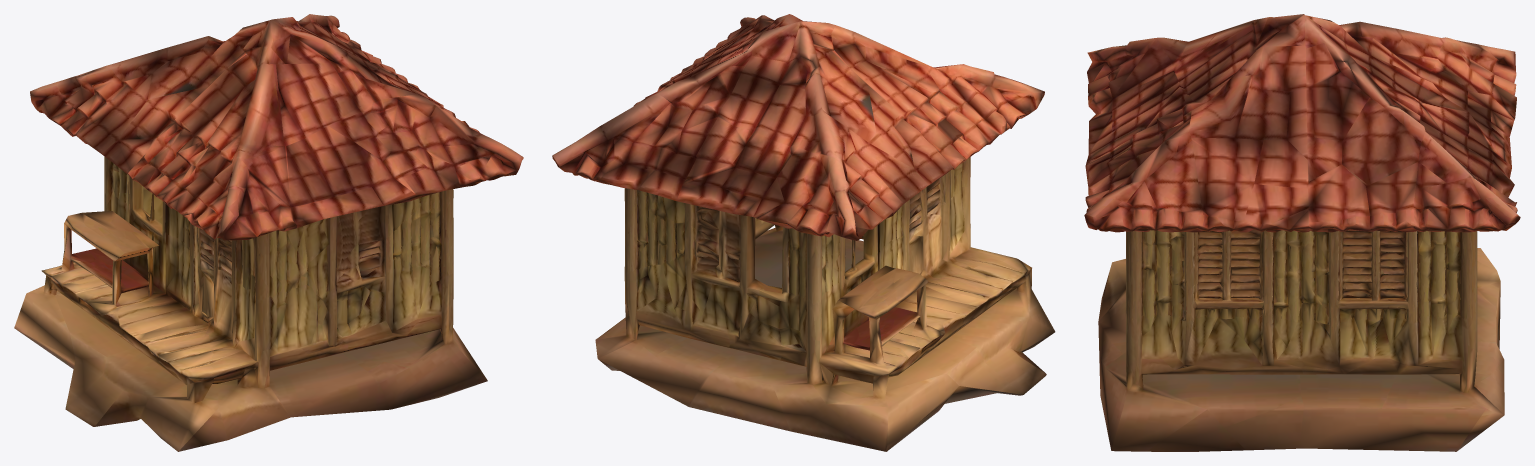
The model's file is nha-mai-ngoi.9c53722a.glb.
3 views of the same model, side by side, from view 1: azimuth 30°, elevation 25°; view 2: azimuth 150°, elevation 25°; view 3: azimuth 270°, elevation 25° (orthographic). The views are drawn at different scales.
Parts seen in each view (by area): view 1: tripo_node_f14fa982-ebdf-46bf-9648-429ff875a777; view 2: tripo_node_f14fa982-ebdf-46bf-9648-429ff875a777; view 3: tripo_node_f14fa982-ebdf-46bf-9648-429ff875a777.
Boxes of the visible parts, x1,y1,x2,y2 form: tripo_node_f14fa982-ebdf-46bf-9648-429ff875a777: (14,14,523,451); tripo_node_f14fa982-ebdf-46bf-9648-429ff875a777: (552,14,1055,451); tripo_node_f14fa982-ebdf-46bf-9648-429ff875a777: (1084,14,1520,451).
Size of the model in its own units: 0.9749 by 0.8328 by 0.884.
Materials: 1 (1 with a texture image).
